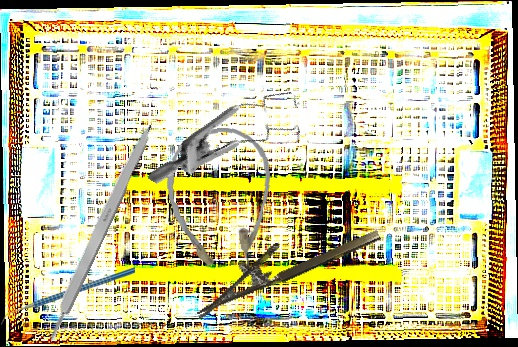Cannula: (163, 125, 277, 278)
Chopper: (1, 267, 135, 326)
Needle Holder: (184, 204, 382, 320)
Scalpel Handle: (41, 121, 156, 343)
Speculum: (147, 52, 319, 236)
